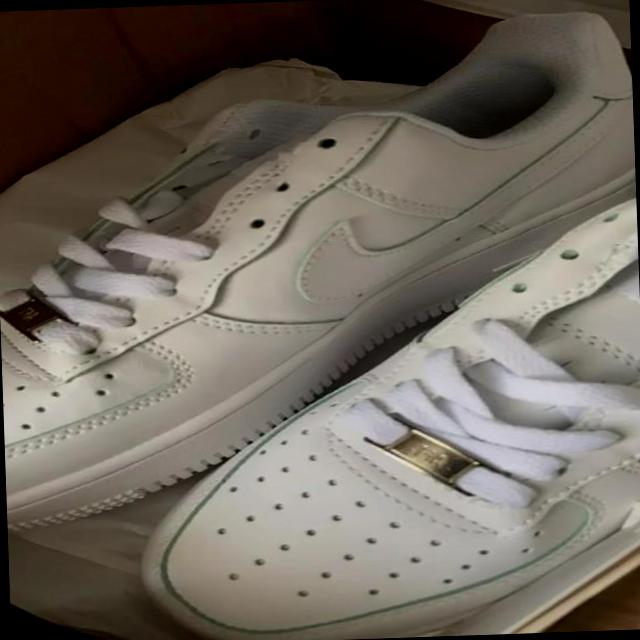nike_fake_airforce: (0, 3, 640, 538), (28, 193, 640, 640)
